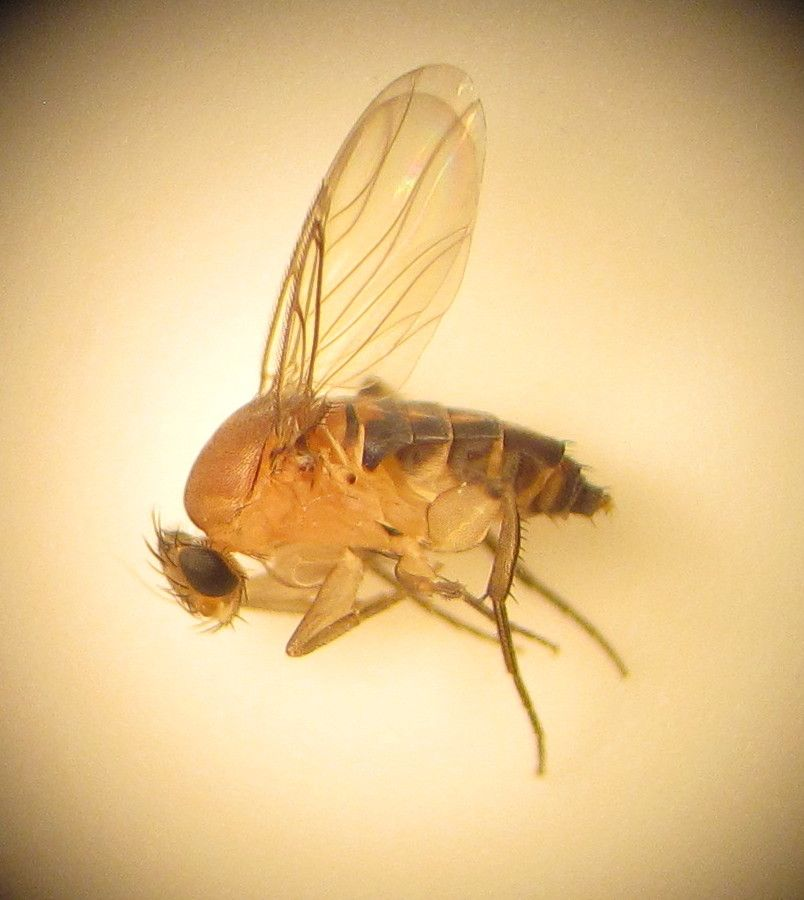phorid fly: (131, 52, 660, 809)
